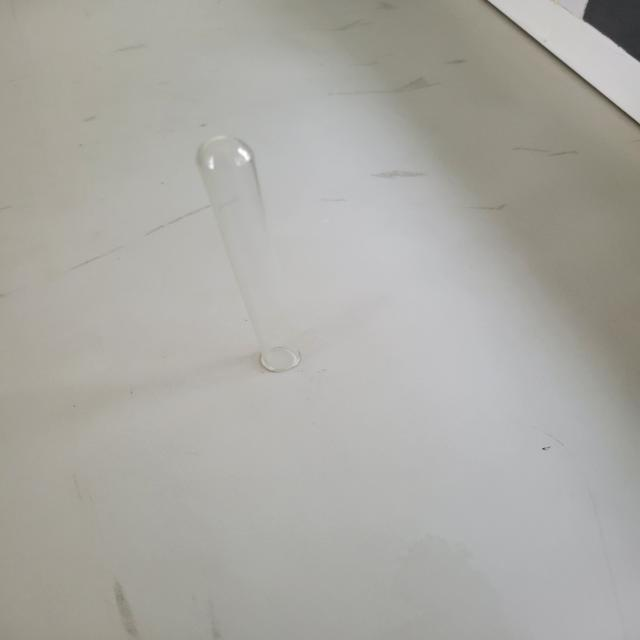Test_Tube: (150, 116, 368, 402)
